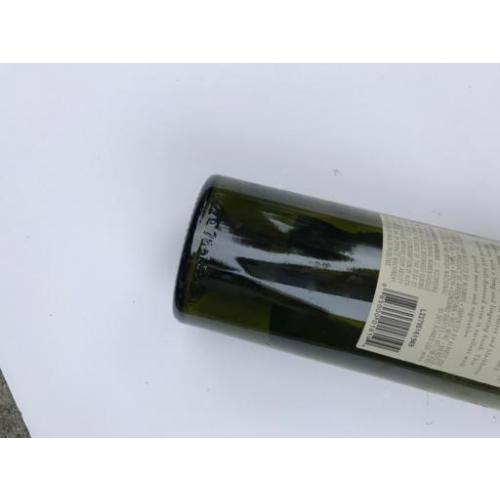glass: (180, 174, 499, 407)
